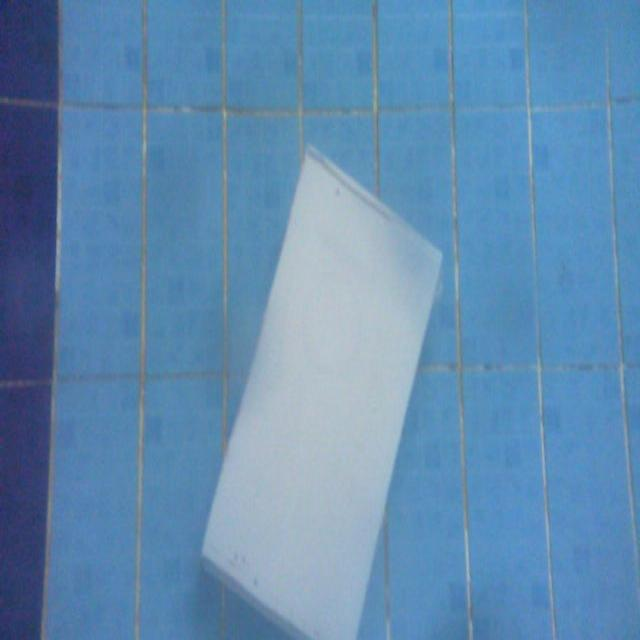Cuboid: (198, 139, 444, 638)
